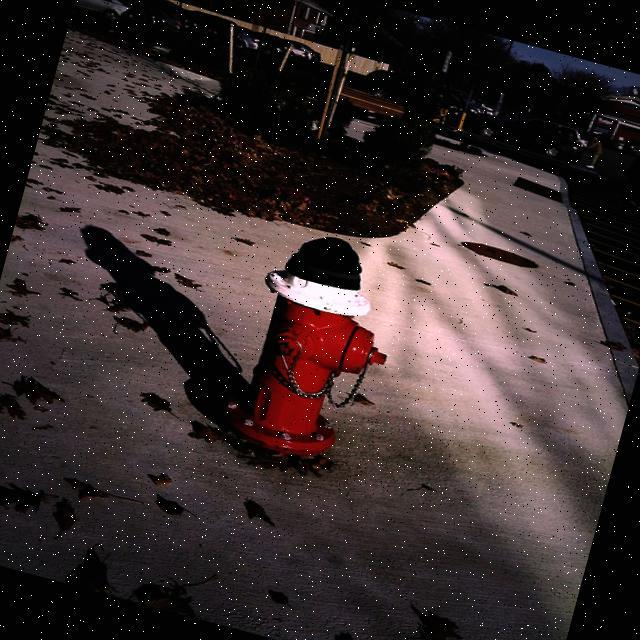fire_hydrant: (226, 220, 412, 465)
